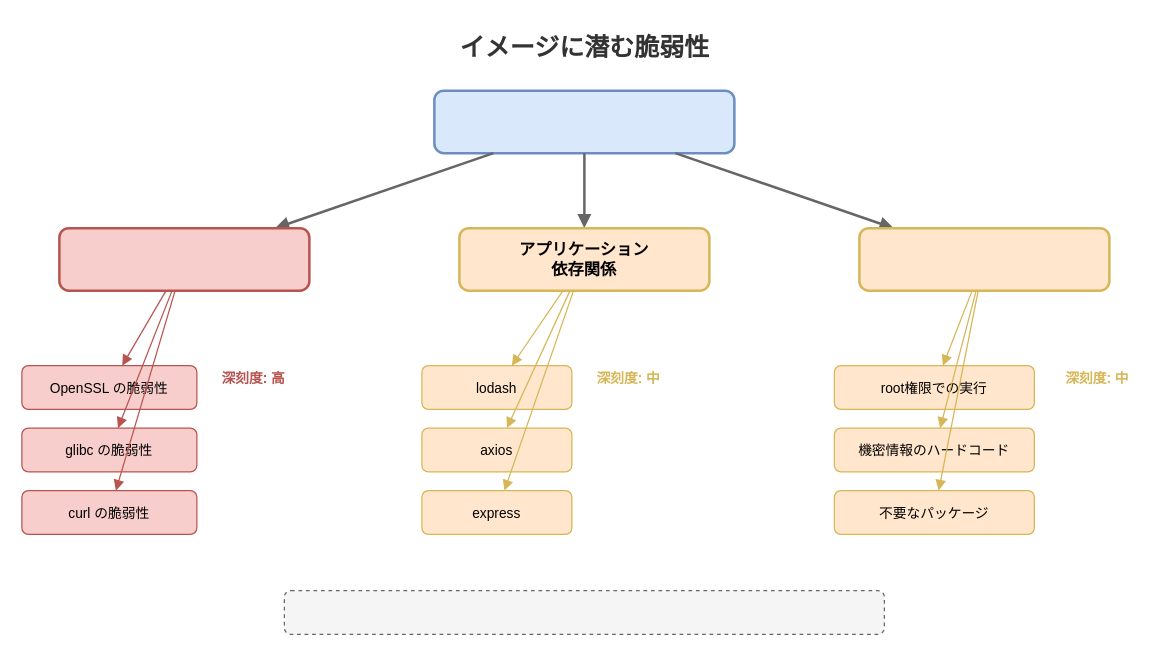
Some shapes in this 1169 by 656 pixel diagram are drawn without their labels. The shapes that lost their labels are listed below. From the top down, each one's box as (x1, y1, x2, y2) in pixels, then its label:
(432, 89, 735, 154): Dockerイメージの脆弱性
(58, 226, 310, 291): ベースイメージ (Ubuntu 20.04)
(858, 226, 1110, 291): 設定の問題
(283, 589, 884, 634): 脆弱性はベースイメージ、依存パッケージ、設定の3つの層に存在する
